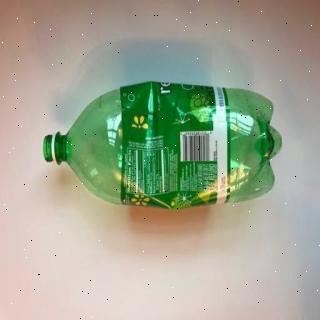Plastic-bottle: (42, 78, 287, 214)
